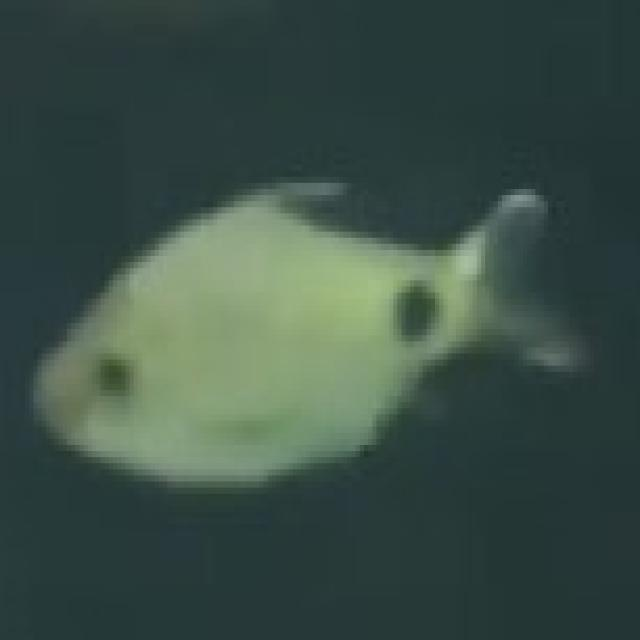Black-Spotted-Barb: (12, 117, 584, 506)
